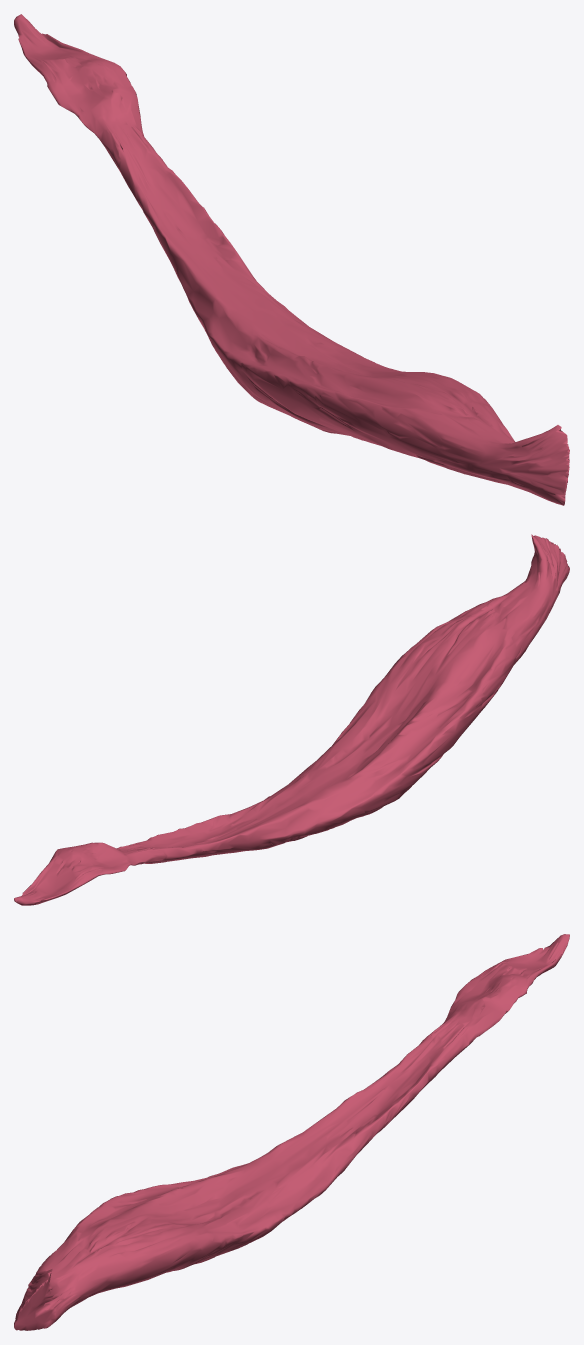
3 views of the same model, one above another, from view 1: azimuth 30°, elevation 25°; view 2: azimuth 150°, elevation 25°; view 3: azimuth 330°, elevation 25° (orthographic). The views are drawn at different scales.
Parts seen in each view (by area): view 1: 右侧股直肌; view 2: 右侧股直肌; view 3: 右侧股直肌.
Boxes of the visible parts, x1,y1,x2,y2 form: 右侧股直肌: (14,14,569,505); 右侧股直肌: (14,534,569,905); 右侧股直肌: (14,934,569,1330).
Size of the model in its own units: 0.1202 by 0.1022 by 0.8035.
